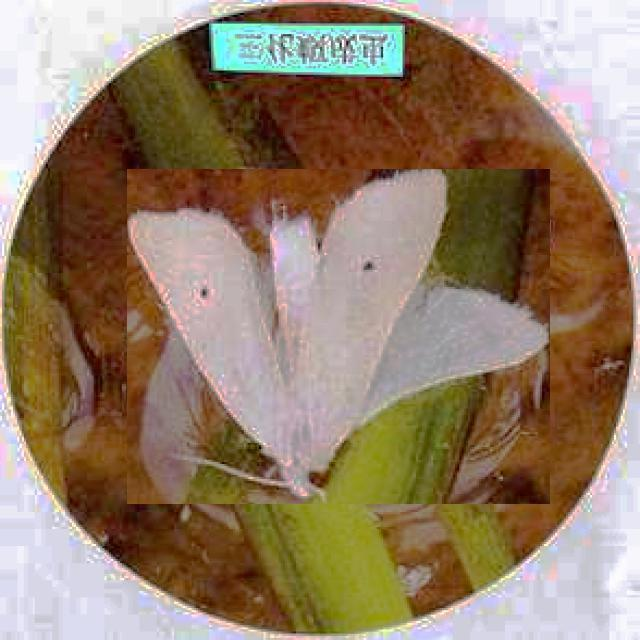stem-borer: (127, 169, 550, 504)
